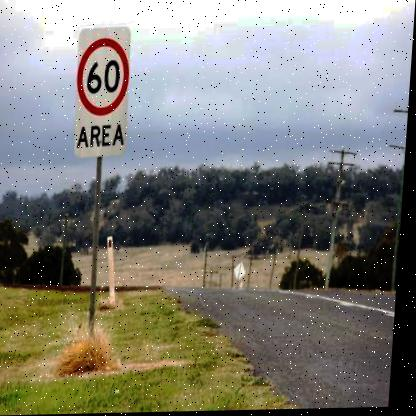Speed Limit -60-: (77, 38, 133, 116)
